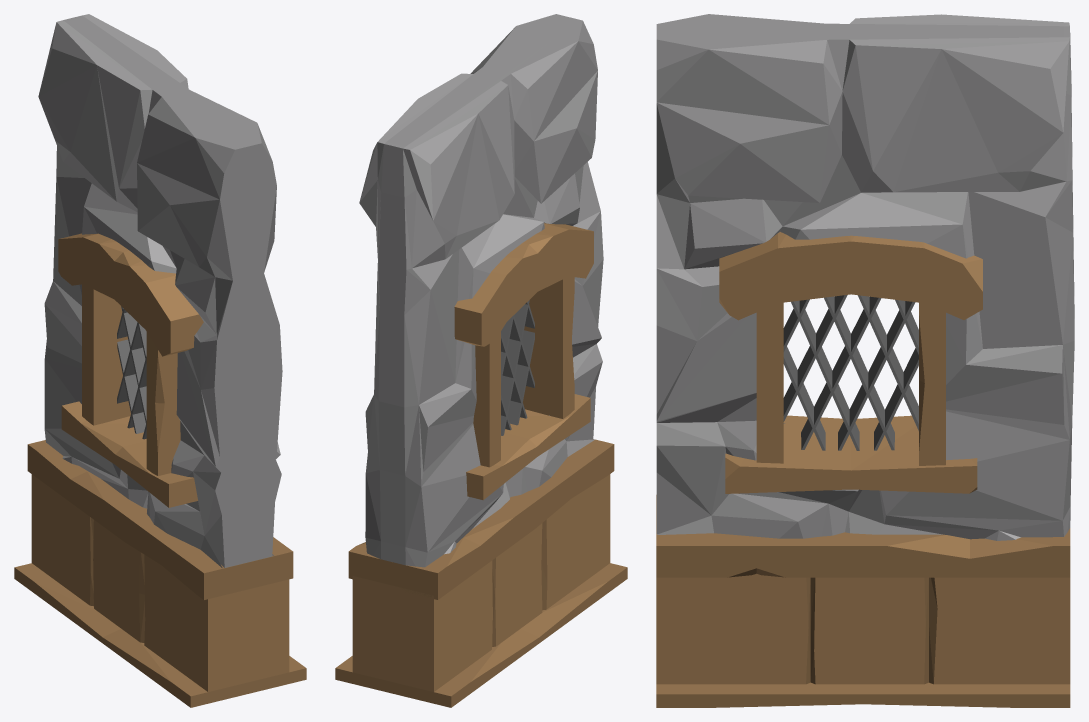
File: SFV_Window2_Rock_S_001.fbx
3 views of the same model, side by side, from view 1: azimuth 30°, elevation 25°; view 2: azimuth 150°, elevation 25°; view 3: azimuth 270°, elevation 25° (orthographic). The views are drawn at different scales.
Parts seen in each view (by area): view 1: SFV_Window2_Rock_S_001; view 2: SFV_Window2_Rock_S_001; view 3: SFV_Window2_Rock_S_001.
Part boxes in pixels (x1=…): SFV_Window2_Rock_S_001: x1=14, y1=14, x2=306, y2=707; SFV_Window2_Rock_S_001: x1=335, y1=14, x2=627, y2=707; SFV_Window2_Rock_S_001: x1=656, y1=14, x2=1074, y2=707.
Size of the model in its own units: 66.39 by 300 by 177.
